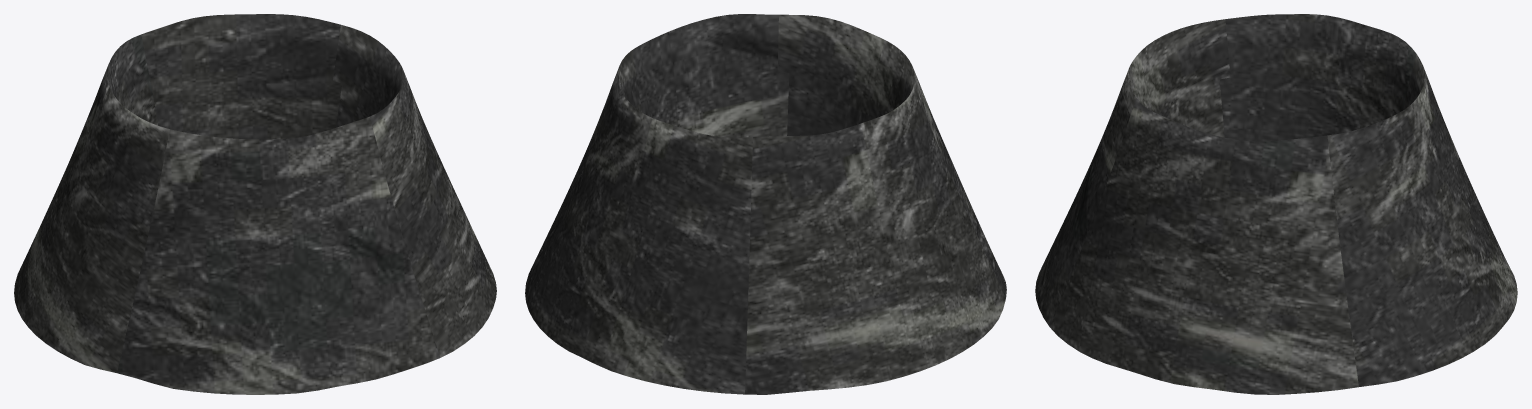
Rendered from volcano_caldera_mid.glb.
The picture shows the model from 3 angles, left to right: view 1: azimuth 30°, elevation 25°; view 2: azimuth 150°, elevation 25°; view 3: azimuth 270°, elevation 25°; orthographic projection.
Parts seen in each view (by area): view 1: Volcano_CalderaBody; view 2: Volcano_CalderaBody; view 3: Volcano_CalderaBody.
Part boxes in pixels (<box>): Volcano_CalderaBody: <box>14,14,496,394</box>; Volcano_CalderaBody: <box>525,14,1006,394</box>; Volcano_CalderaBody: <box>1035,14,1517,394</box>.
Bounding box in the file's own units: 2 × 1.01 × 2.
2 materials, 2 textured.
